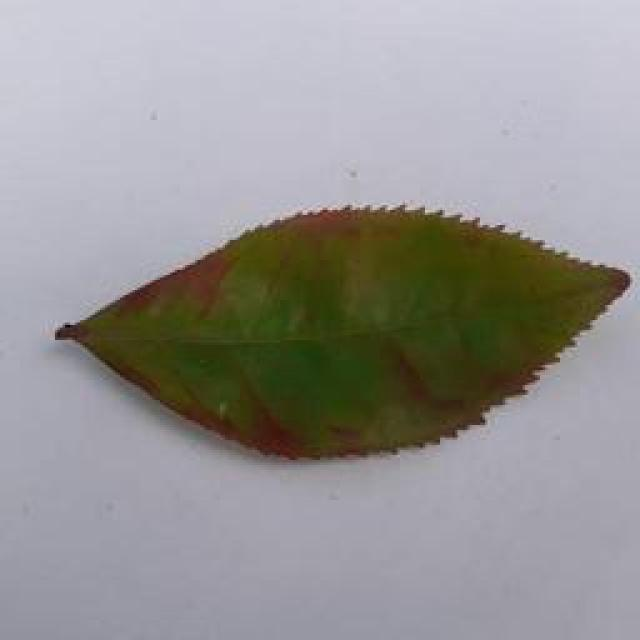Red Leaf Spot: (45, 188, 638, 467)
